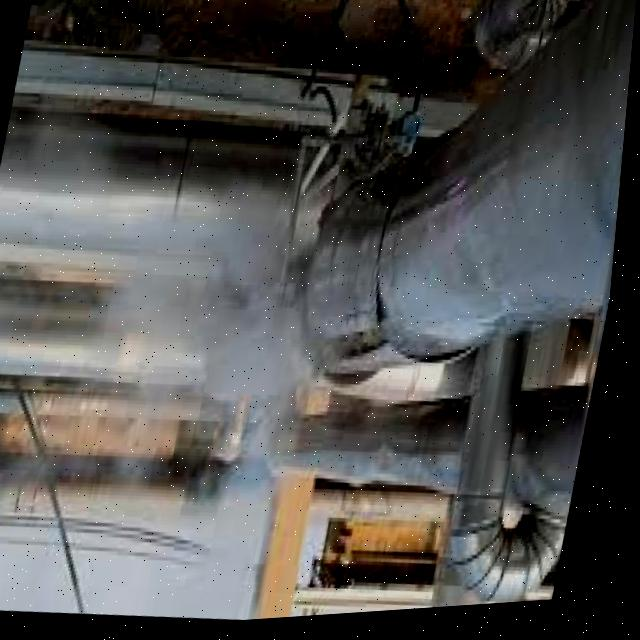corrosion: (129, 213, 353, 560)
